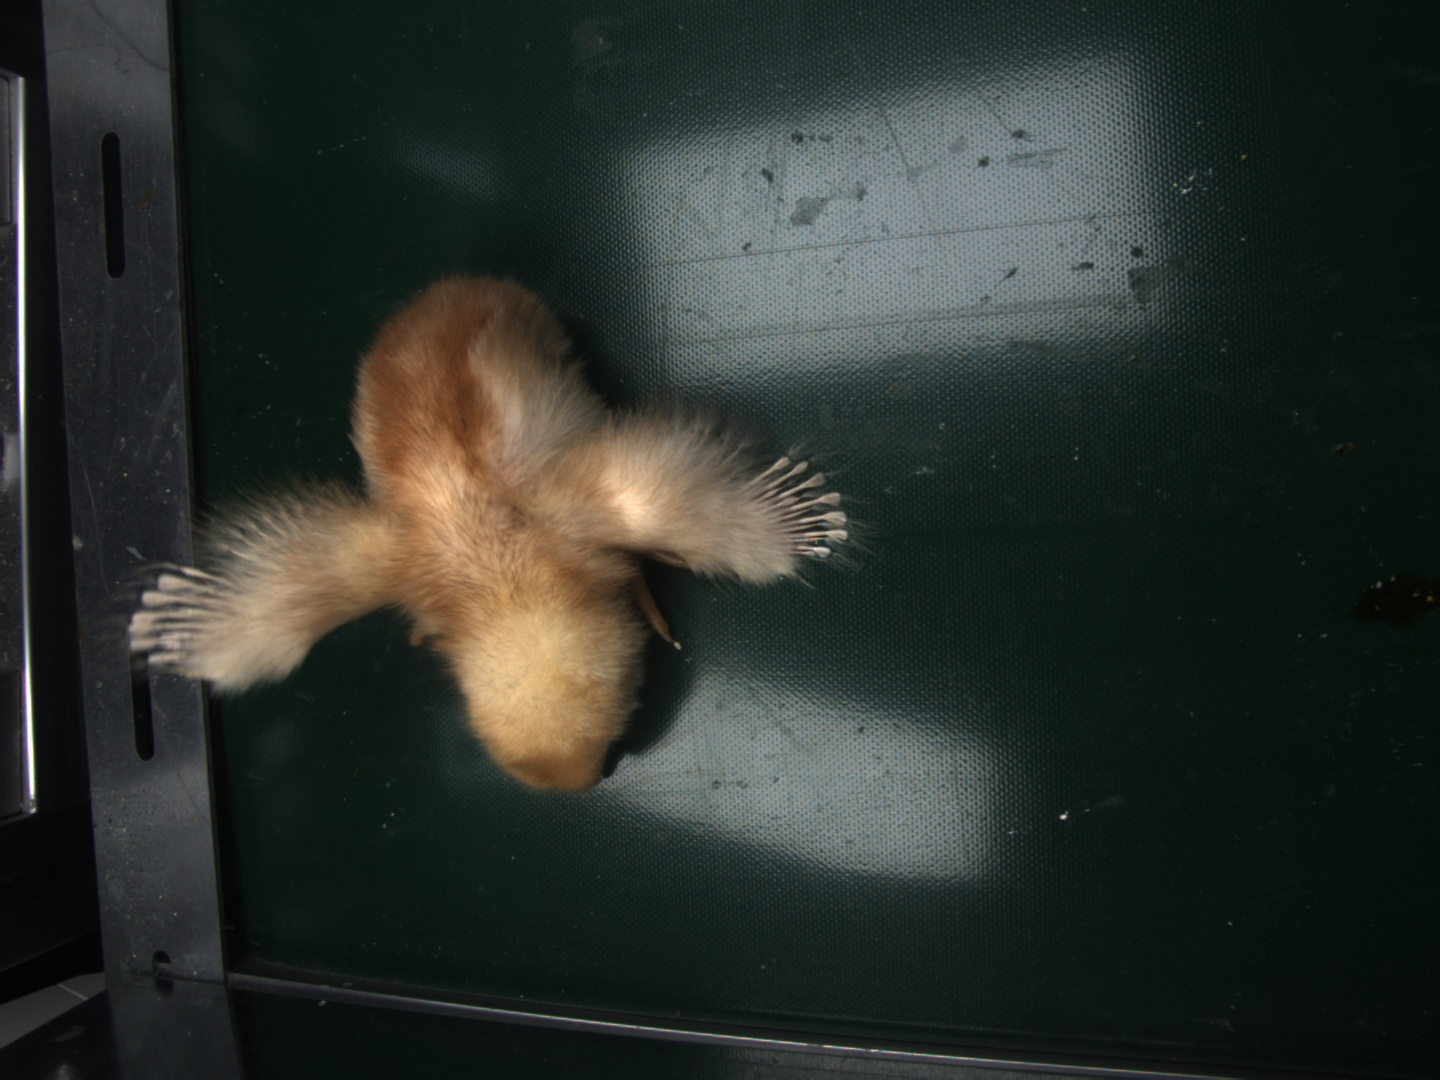female: (749, 453, 847, 557)
